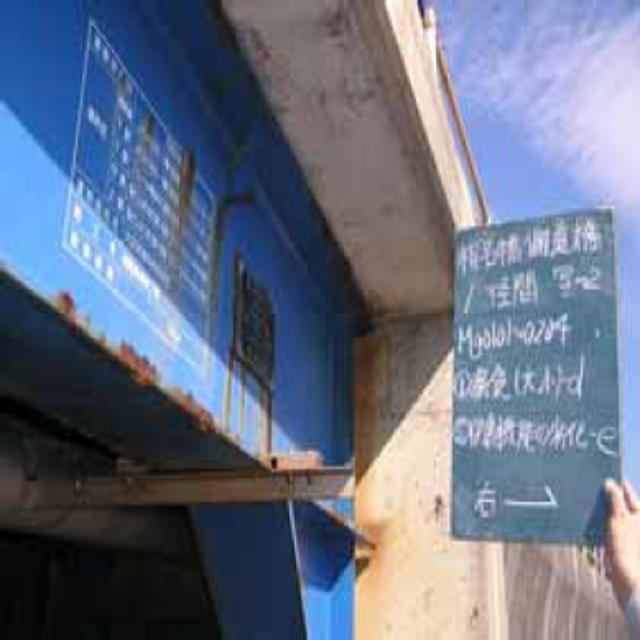corrosion: (51, 290, 243, 456), (310, 205, 407, 368)
